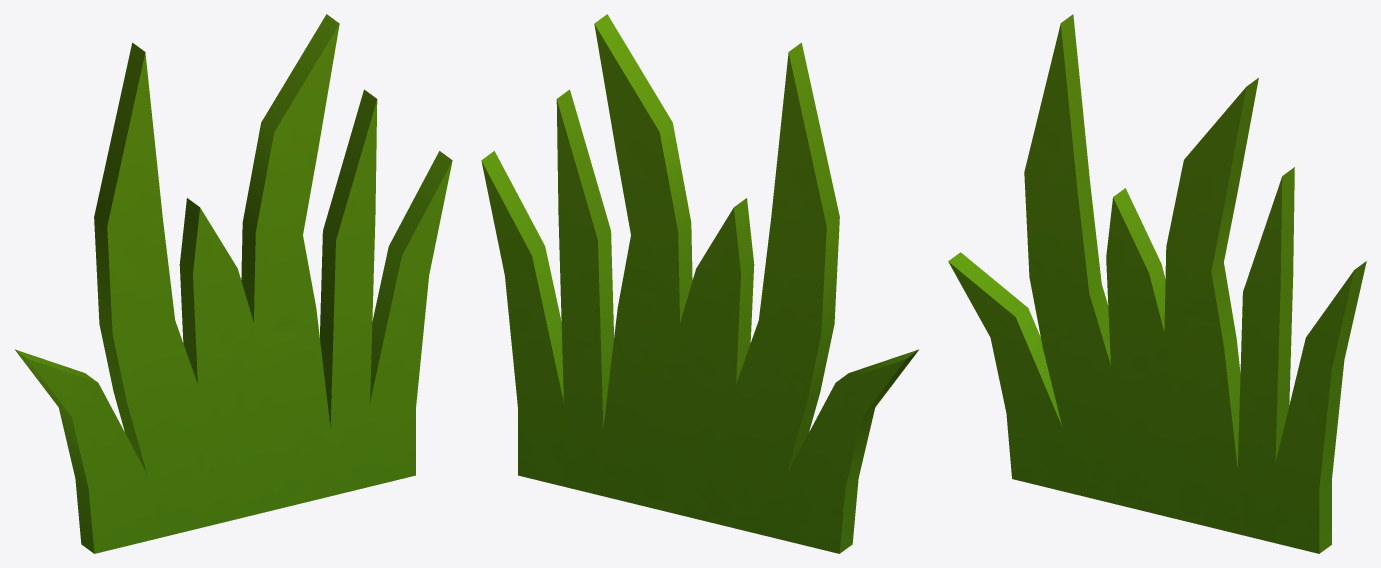
The model's file is grass.fbx.
The picture shows the model from 3 angles, left to right: view 1: azimuth 30°, elevation 25°; view 2: azimuth 150°, elevation 25°; view 3: azimuth 330°, elevation 25°; orthographic projection. The views are drawn at different scales.
Visible parts, largest first — view 1: Ebene; view 2: Ebene; view 3: Ebene.
Boxes of the visible parts, x1,y1,x2,y2 form: Ebene: (15, 14, 452, 553); Ebene: (481, 14, 918, 553); Ebene: (948, 14, 1366, 553).
Bounding box in the file's own units: 0.5605 × 0.6168 × 0.03.
